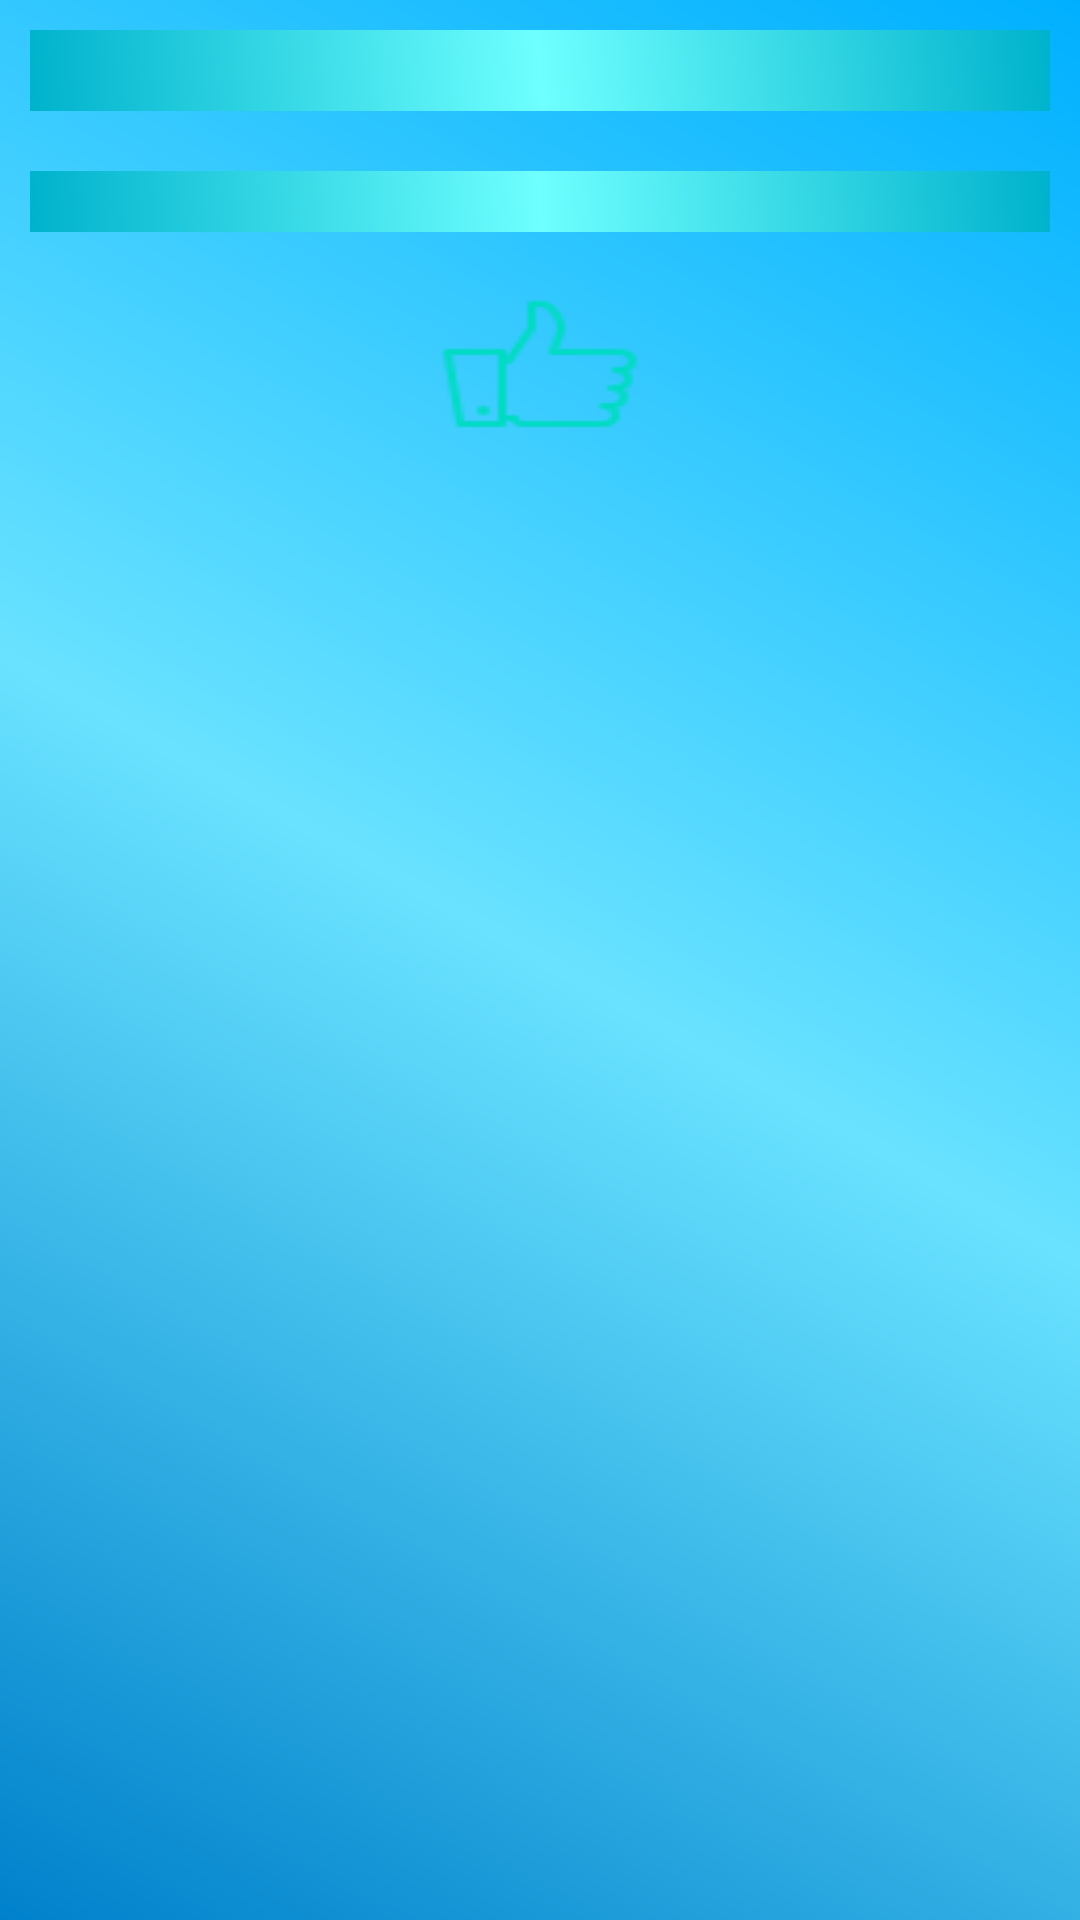

Where to tap for icons on this 1080w x 1920h app screen, as (x=x, y=y):
lik: (x=540, y=363)
